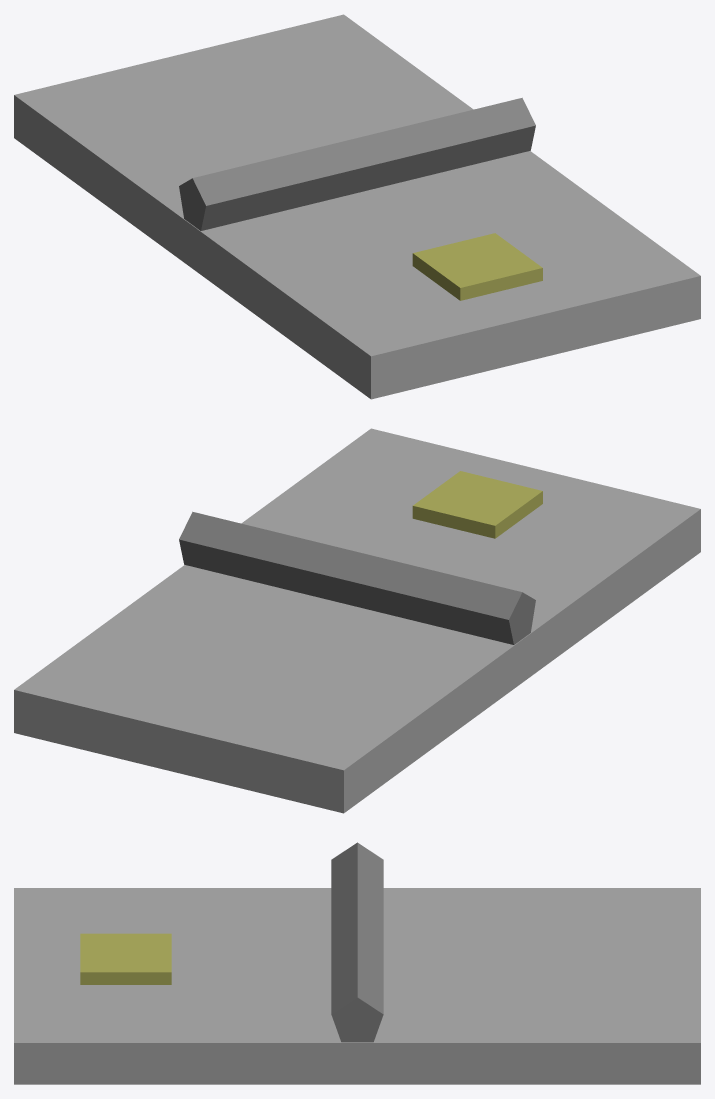
File: mousetrap.fbx
The picture shows the model from 3 angles, top to bottom: view 1: azimuth 30°, elevation 25°; view 2: azimuth 150°, elevation 25°; view 3: azimuth 270°, elevation 25°; orthographic projection. The views are drawn at different scales.
Parts seen in each view (by area): view 1: pCube3; view 2: pCube3; view 3: pCube3.
Part boxes in pixels (left/top/right/bottom): pCube3: left=14, top=14, right=700, bottom=399; pCube3: left=14, top=428, right=700, bottom=813; pCube3: left=14, top=842, right=700, bottom=1084.
Size of the model in its own units: 4 by 1.05 by 7.5.
